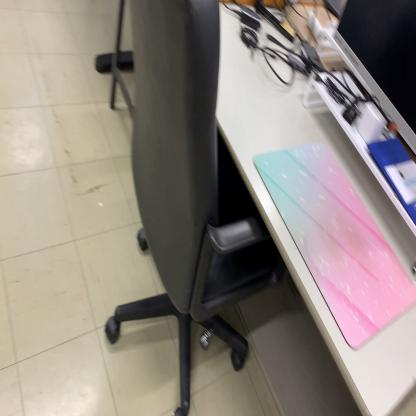chair: (103, 4, 268, 416)
